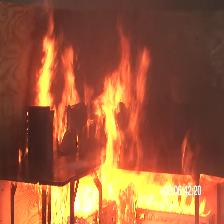fire: (50, 173, 190, 218), (35, 45, 78, 111), (96, 83, 124, 163)
